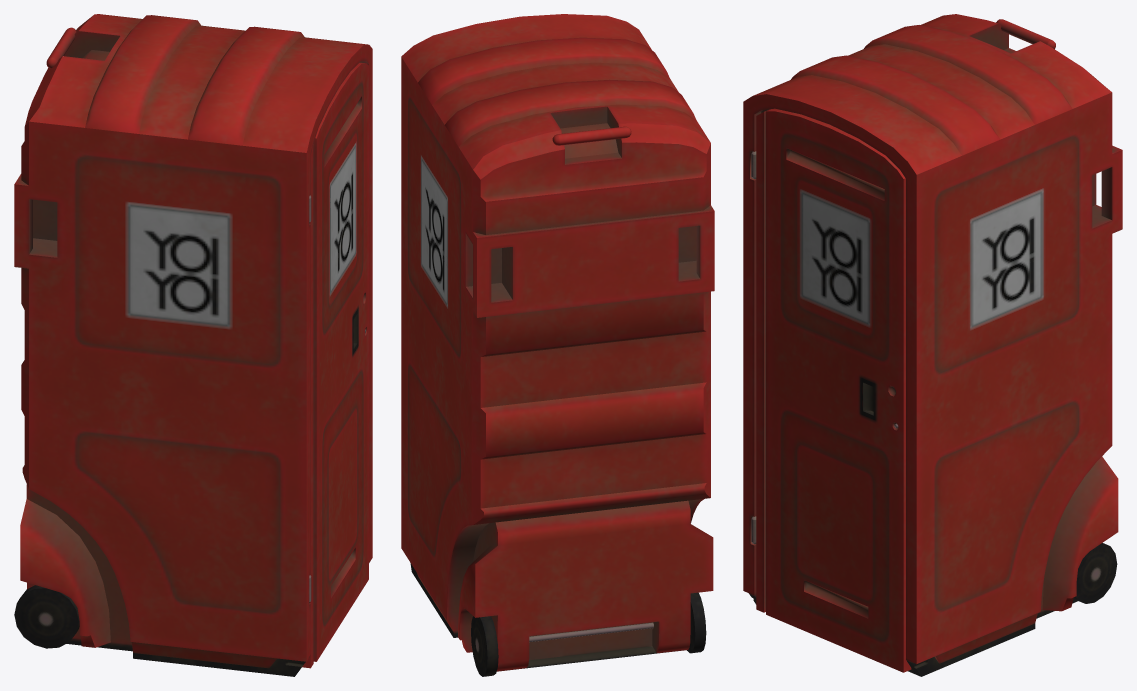
3 renders of one model, left to right at view 1: azimuth 30°, elevation 25°; view 2: azimuth 150°, elevation 25°; view 3: azimuth 270°, elevation 25°, orthographic. The views are drawn at different scales.
Parts seen in each view (by area): view 1: wc; view 2: wc; view 3: wc.
Part boxes in pixels (x1,y1,x2,y2): wc: (14, 14, 372, 676); wc: (401, 14, 714, 676); wc: (743, 14, 1122, 676).
Size of the model in its own units: 1.61 by 2.53 by 1.61.
1 material, 1 textured.
